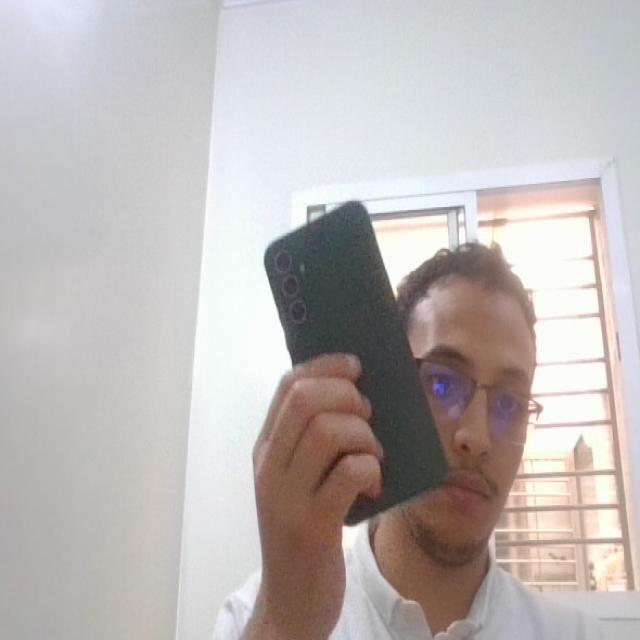phone: (255, 192, 456, 534)
